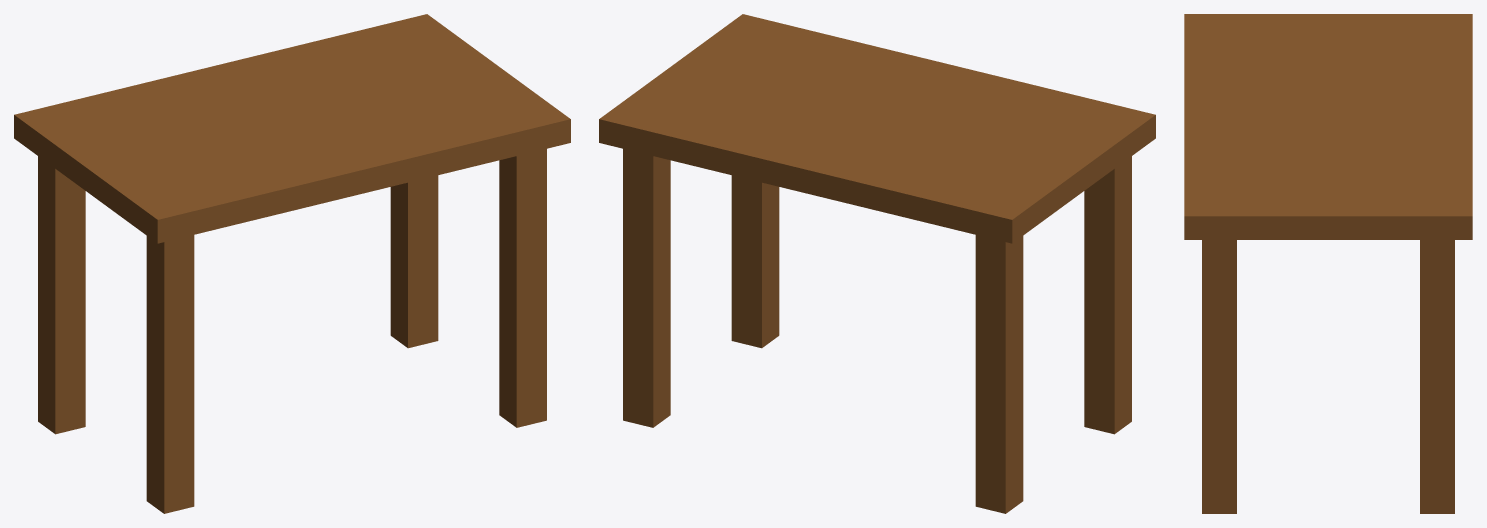
Rendered from table_01.glb.
3 views of the same model, side by side, from view 1: azimuth 30°, elevation 25°; view 2: azimuth 150°, elevation 25°; view 3: azimuth 270°, elevation 25° (orthographic).
Parts seen in each view (by area): view 1: table_01; view 2: table_01; view 3: table_01.
Boxes of the visible parts, bbox=[...] form: table_01: bbox=[14, 14, 570, 513]; table_01: bbox=[599, 14, 1155, 513]; table_01: bbox=[1184, 14, 1472, 513].
Size of the model in its own units: 1.09 by 0.7688 by 0.6583.
